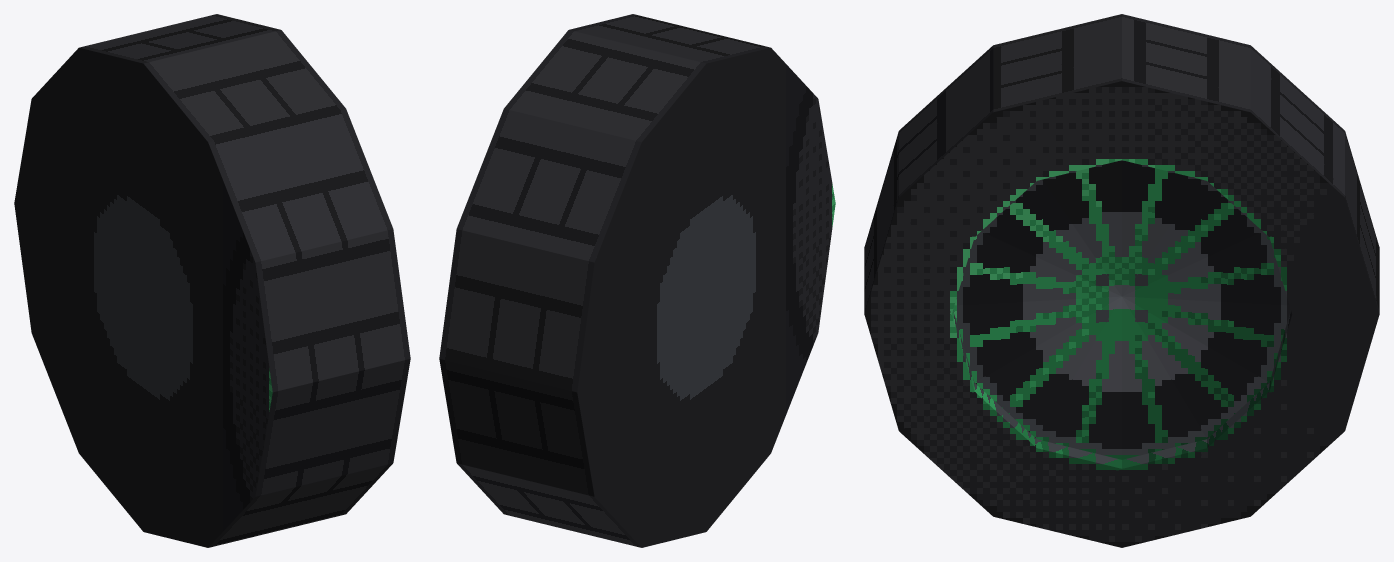
File: wheel_rally.glb
3 renders of one model, left to right at view 1: azimuth 30°, elevation 25°; view 2: azimuth 150°, elevation 25°; view 3: azimuth 270°, elevation 25°, orthographic.
Parts seen in each view (by area): view 1: wheel_rally; view 2: wheel_rally; view 3: wheel_rally.
Boxes of the visible parts, left/top/right/bottom form: wheel_rally: left=14, top=14, right=410, bottom=547; wheel_rally: left=439, top=14, right=835, bottom=547; wheel_rally: left=864, top=14, right=1379, bottom=547.
Bounding box in the file's own units: 0.225 × 0.7301 × 0.7301.
1 material, 1 textured.
